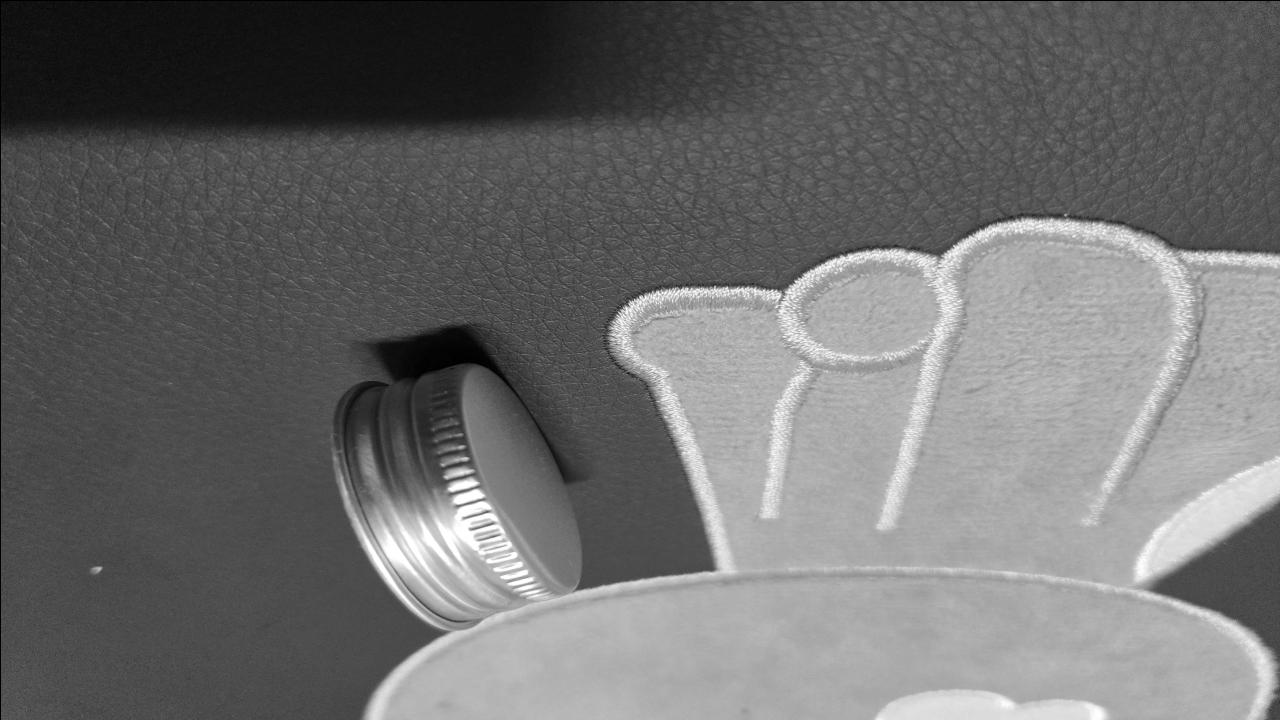bottle_cap: (319, 360, 586, 636)
